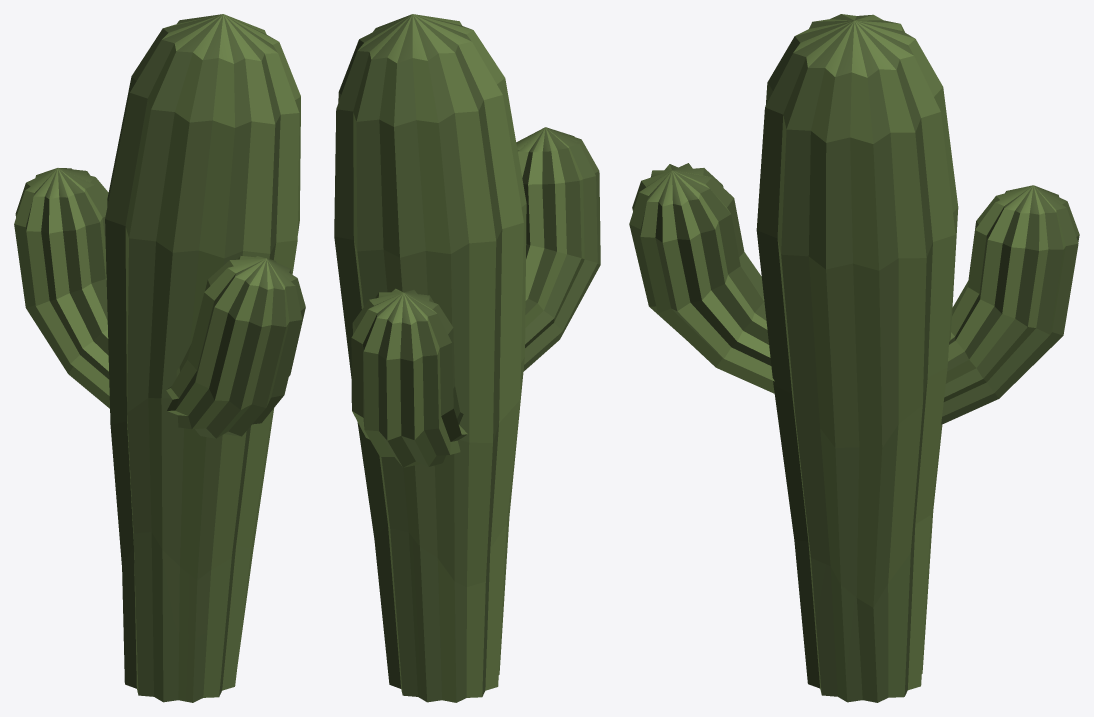
The model's file is Cactus-4.fbx.
3 views of the same model, side by side, from view 1: azimuth 30°, elevation 25°; view 2: azimuth 150°, elevation 25°; view 3: azimuth 270°, elevation 25° (orthographic). The views are drawn at different scales.
Visible parts, largest first — view 1: SM_Env_Cactus_04; view 2: SM_Env_Cactus_04; view 3: SM_Env_Cactus_04.
Boxes of the visible parts, x1,y1,x2,y2 form: SM_Env_Cactus_04: (14,14,305,702); SM_Env_Cactus_04: (334,14,600,702); SM_Env_Cactus_04: (629,14,1079,702).
Bounding box in the file's own units: 38.82 × 133 × 80.21.
